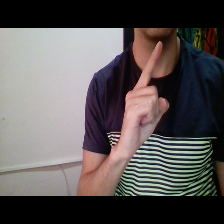2T: (111, 37, 169, 152)
